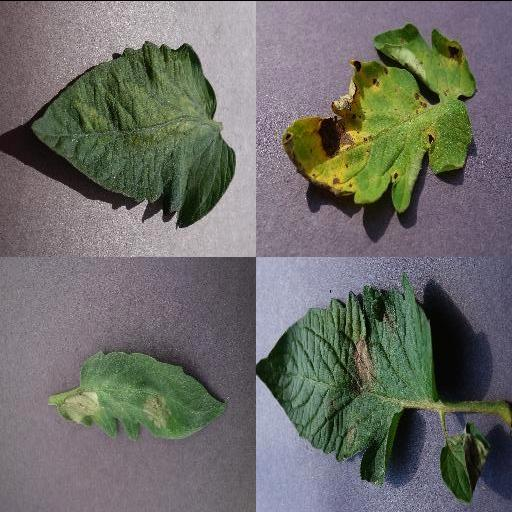Late Blight: (256, 270, 438, 486), (55, 349, 227, 439), (436, 419, 490, 503)
Septoria: (282, 23, 480, 213)
Spider Mites: (32, 39, 238, 227)
